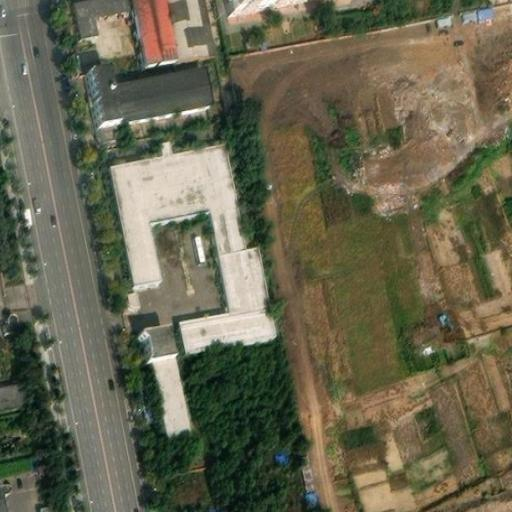building: (112, 130, 238, 278), (212, 196, 270, 307), (144, 318, 193, 436), (112, 60, 211, 113), (181, 300, 276, 347), (73, 0, 137, 33), (88, 60, 119, 117), (0, 381, 27, 410), (119, 286, 139, 309), (0, 480, 13, 511), (472, 4, 494, 22)
